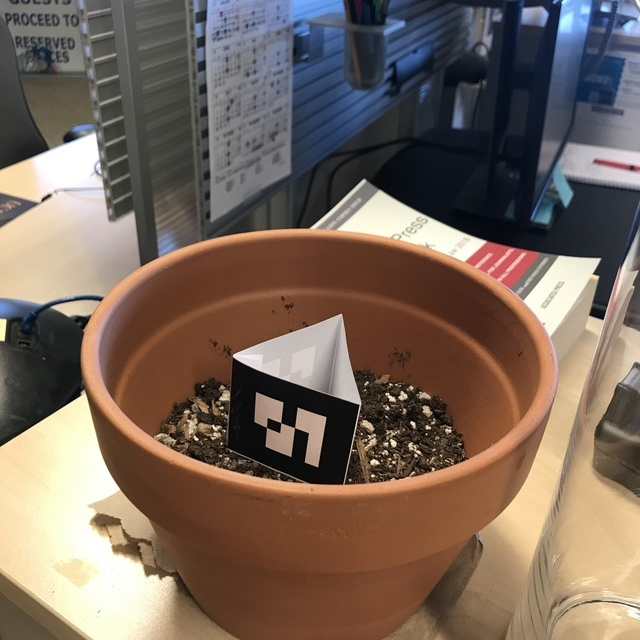ARTag: (225, 312, 361, 493)
